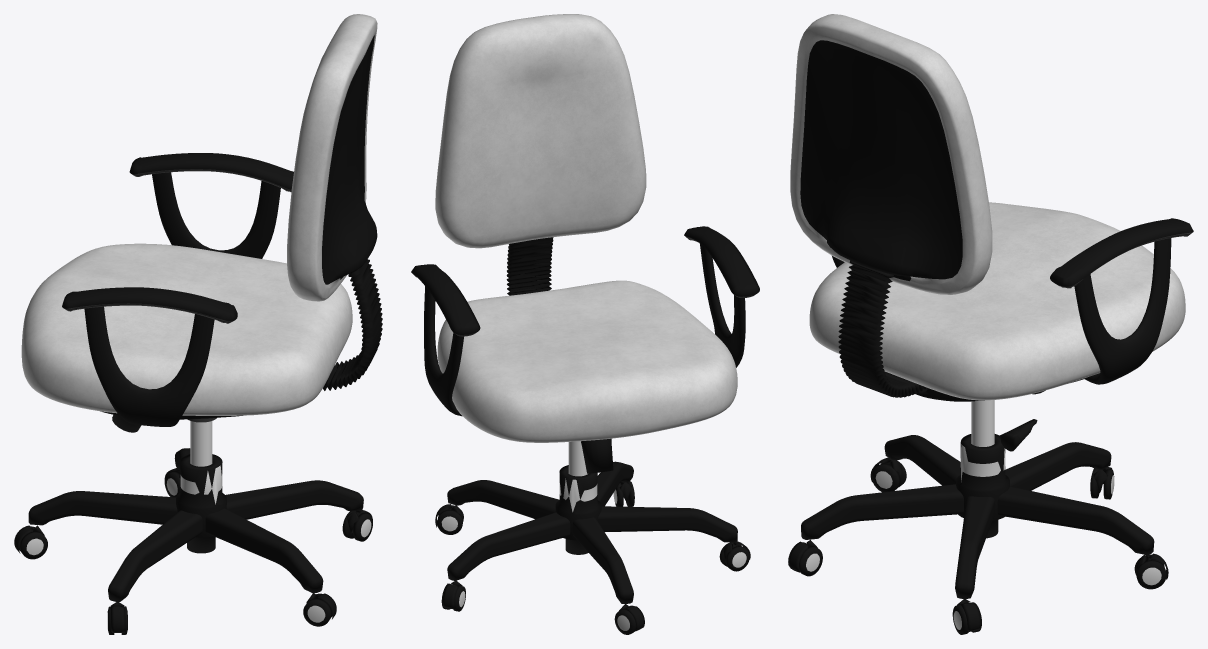
File: anim_chair_office_intro.glb
The picture shows the model from 3 angles, left to right: view 1: azimuth 30°, elevation 25°; view 2: azimuth 150°, elevation 25°; view 3: azimuth 270°, elevation 25°; orthographic projection. The views are drawn at different scales.
Parts seen in each view (by area): view 1: Office Chair_REX; view 2: Office Chair_REX; view 3: Office Chair_REX.
Part boxes in pixels (x1,y1,x2,y2): Office Chair_REX: [14, 14, 382, 634]; Office Chair_REX: [411, 14, 759, 634]; Office Chair_REX: [788, 14, 1193, 634].
Size of the model in its own units: 0.6215 by 0.9746 by 0.6227.
4 materials, 1 textured.
